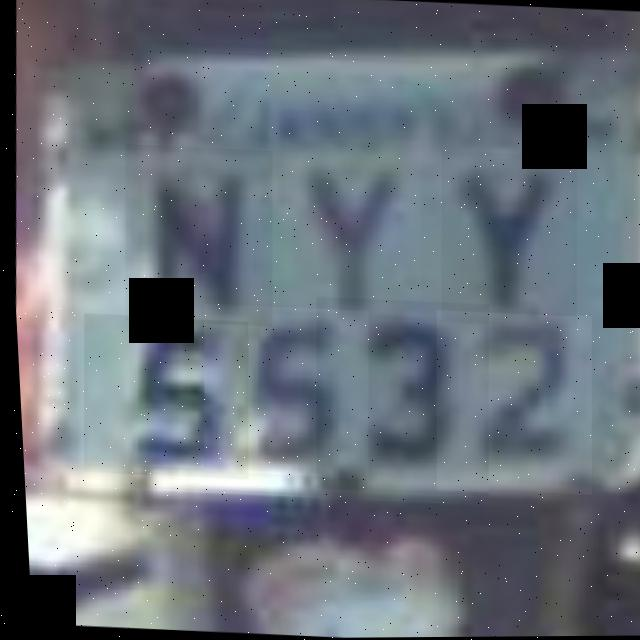2: (424, 309, 595, 498)
3: (303, 296, 493, 498)
5: (192, 303, 372, 480), (72, 313, 251, 482)
N: (114, 144, 278, 328)
Y: (274, 135, 427, 318), (431, 150, 583, 330)
